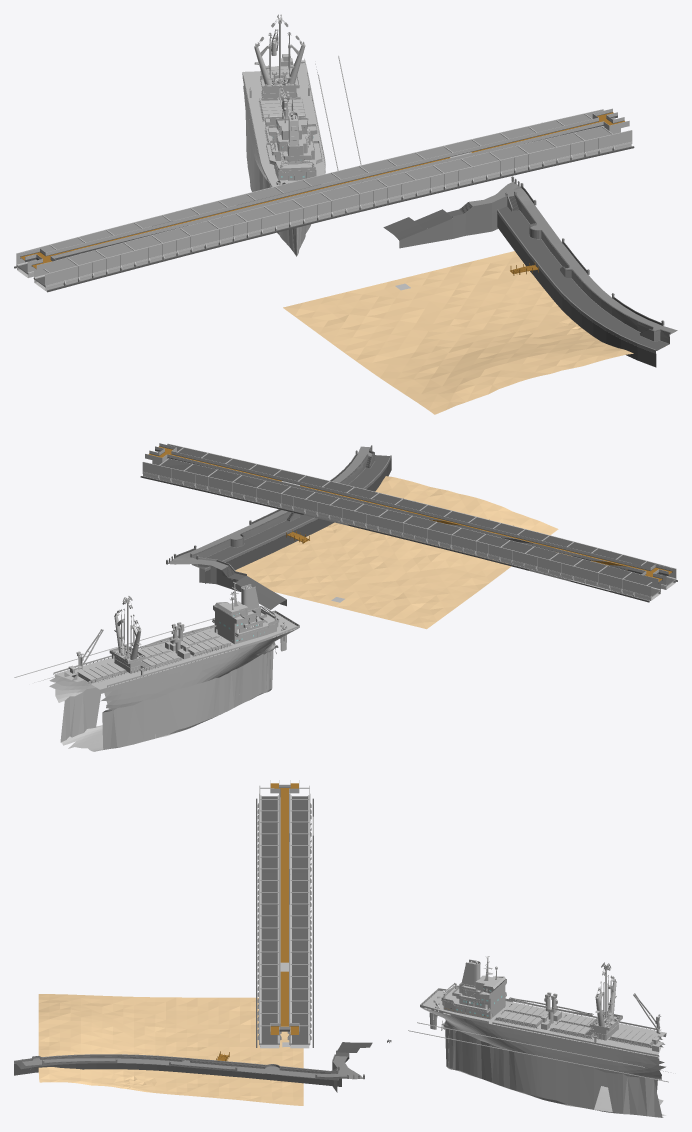
Rendered from brook_s_17.FBX.
3 renders of one model, top to bottom at view 1: azimuth 30°, elevation 25°; view 2: azimuth 150°, elevation 25°; view 3: azimuth 270°, elevation 25°, orthographic. The views are drawn at different scales.
Parts seen in each view (by area): view 1: unnamed, null; view 2: unnamed, null; view 3: unnamed, null.
Part boxes in pixels (bbox=[...]): unnamed: bbox=[14, 33, 677, 414]; null: bbox=[242, 14, 313, 190]; unnamed: bbox=[14, 443, 677, 748]; null: bbox=[78, 596, 185, 751]; unnamed: bbox=[14, 780, 668, 1117]; null: bbox=[559, 962, 666, 1109].
Bounding box in the file's own units: 295 × 75.45 × 329.
